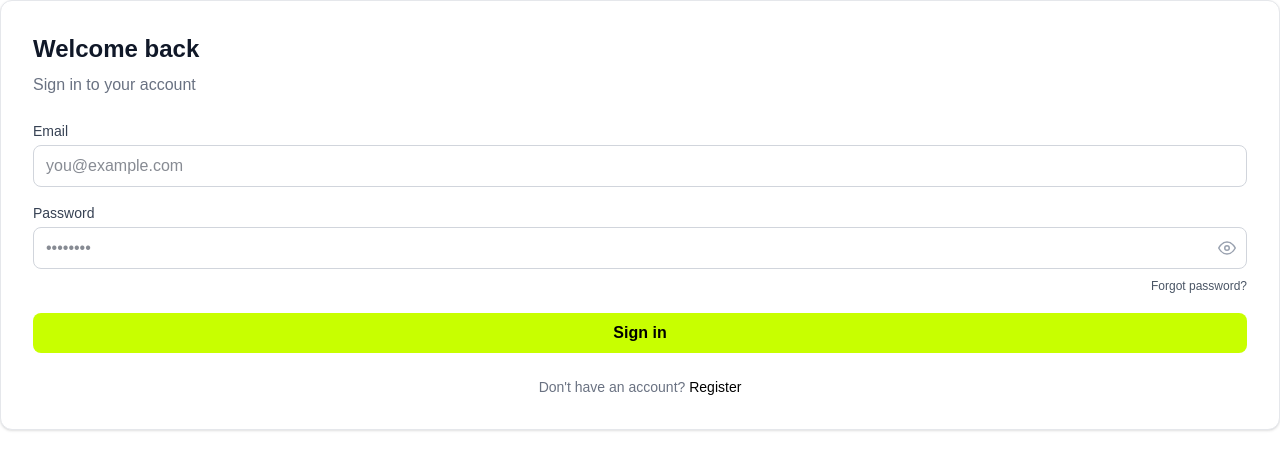
Test: LoginForm › shows validation error for invalid email
Type "invalid-email" into the field with placeholder "you@example.com" at (640, 166), box left=33, top=145, right=1247, bottom=187
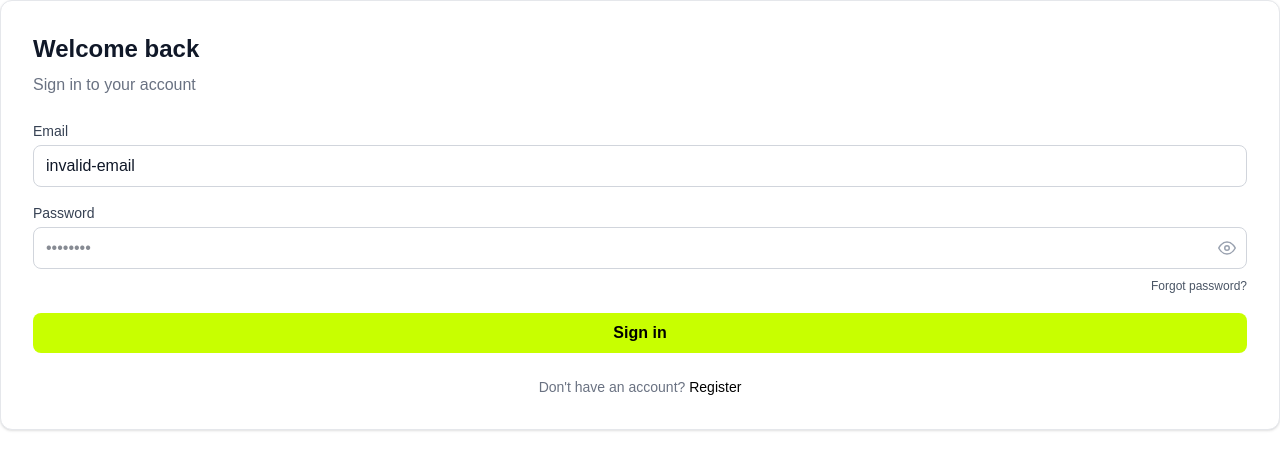
Type "12345678" into the password field with placeholder "••••••••" at (640, 248), box left=33, top=227, right=1247, bottom=269
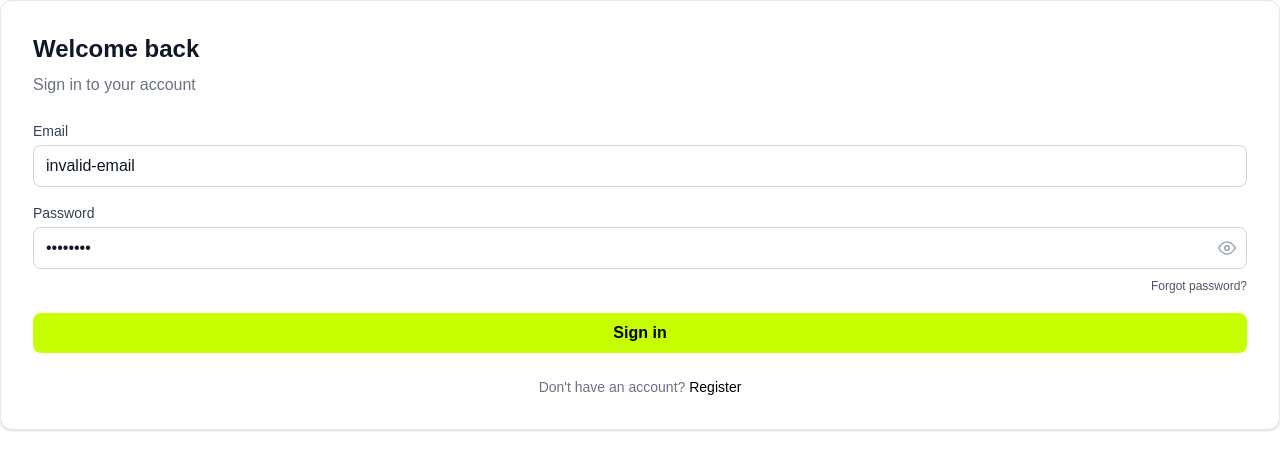
Click the button "Sign in" at (640, 333), box left=33, top=313, right=1247, bottom=353
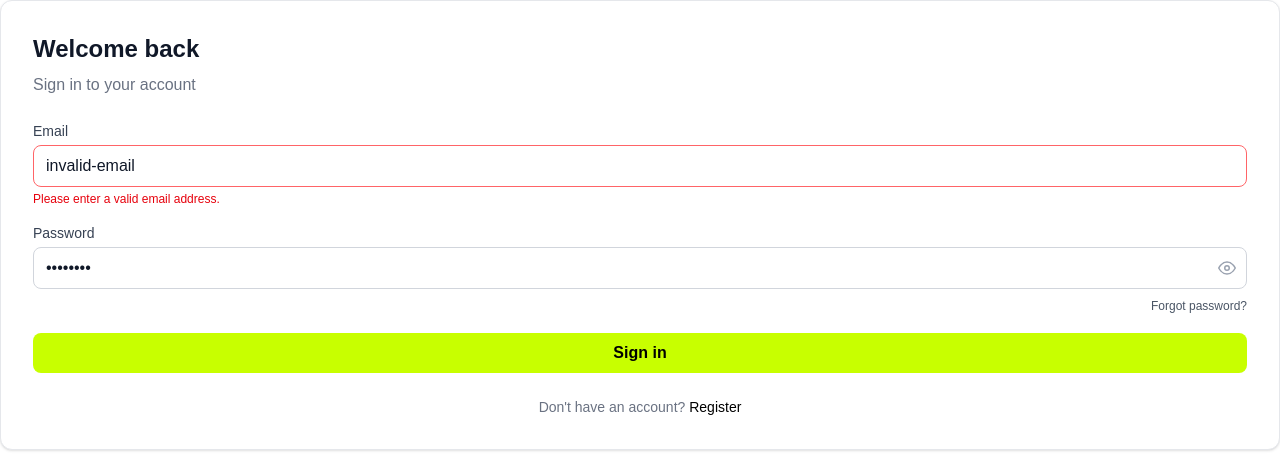
Now the text "Please enter a valid email address." is shown, box left=33, top=192, right=220, bottom=206
